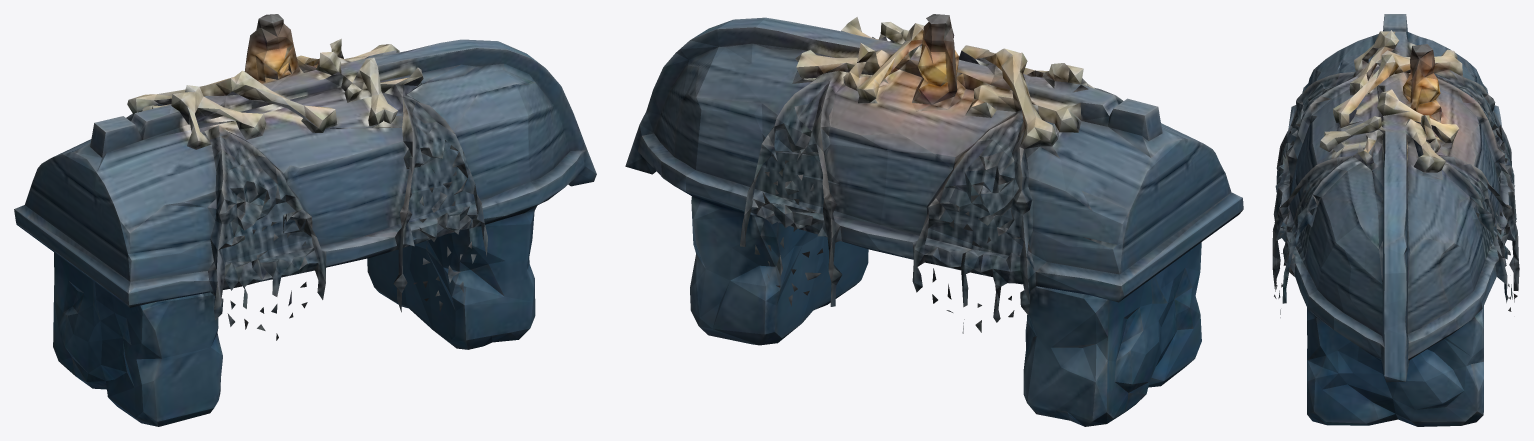
File: altar_shore.glb
3 views of the same model, side by side, from view 1: azimuth 30°, elevation 25°; view 2: azimuth 150°, elevation 25°; view 3: azimuth 270°, elevation 25° (orthographic). The views are drawn at different scales.
Visible parts, largest first — view 1: tripo_node_f8db2027-c9ad-4e7f-b360-405f2b0b32d5.001; view 2: tripo_node_f8db2027-c9ad-4e7f-b360-405f2b0b32d5.001; view 3: tripo_node_f8db2027-c9ad-4e7f-b360-405f2b0b32d5.001.
Boxes of the visible parts, x1,y1,x2,y2 form: tripo_node_f8db2027-c9ad-4e7f-b360-405f2b0b32d5.001: [14, 14, 596, 426]; tripo_node_f8db2027-c9ad-4e7f-b360-405f2b0b32d5.001: [625, 14, 1243, 426]; tripo_node_f8db2027-c9ad-4e7f-b360-405f2b0b32d5.001: [1272, 14, 1519, 426].
Size of the model in its own units: 0.9973 by 0.5986 by 0.4546.
1 material, 1 textured.
